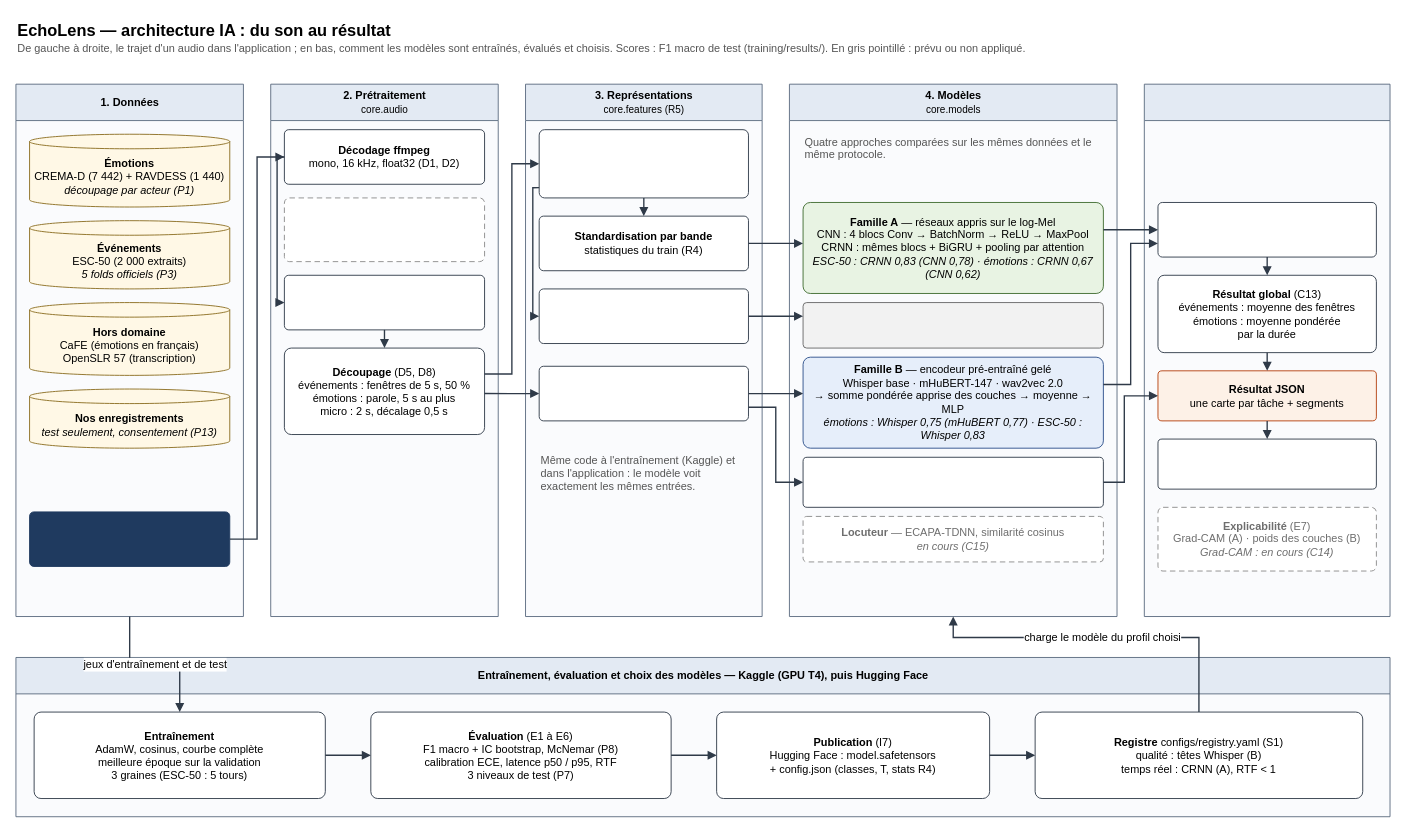
The diagram is 1406 pixels wide and 833 high, and some of its shapes have lost their labels. Here are the shapes that lost their labels. From the top down, the box of each, then its label:
(538, 129, 748, 198): log-Mel 64 bandes HTK, dB absolus fenêtre 25 ms, pas 10 ms (R1, R2)
(283, 197, 485, 262): Normalisation RMS (D3), débruitage (D4) dans core, non appliqués à l'inférence
(1157, 202, 1376, 257): Calibration (E2, ENF-06) p = softmax(z / T)
(283, 274, 485, 330): Détection de parole Silero VAD, seuils 0,40 / 0,25 (D5)
(538, 288, 748, 344): MFCC 40 + Δ + ΔΔ moyenne, écart-type (R3)
(802, 302, 1103, 348): Référence — MFCC + SVM (noyau RBF) ESC-50 : 0,40
(1143, 83, 1390, 617): 5. Sortie services, puis l'interface
(538, 365, 748, 421): Signal brut 16 kHz sans Mel (R7)
(802, 456, 1103, 507): Transcription — faster-whisper int8, français WER test : base 0,28 · small 0,14
(1157, 438, 1376, 489): Interface barres, frise, spectrogramme
(29, 511, 230, 566): Audio de l'utilisateur fichier ou micro
